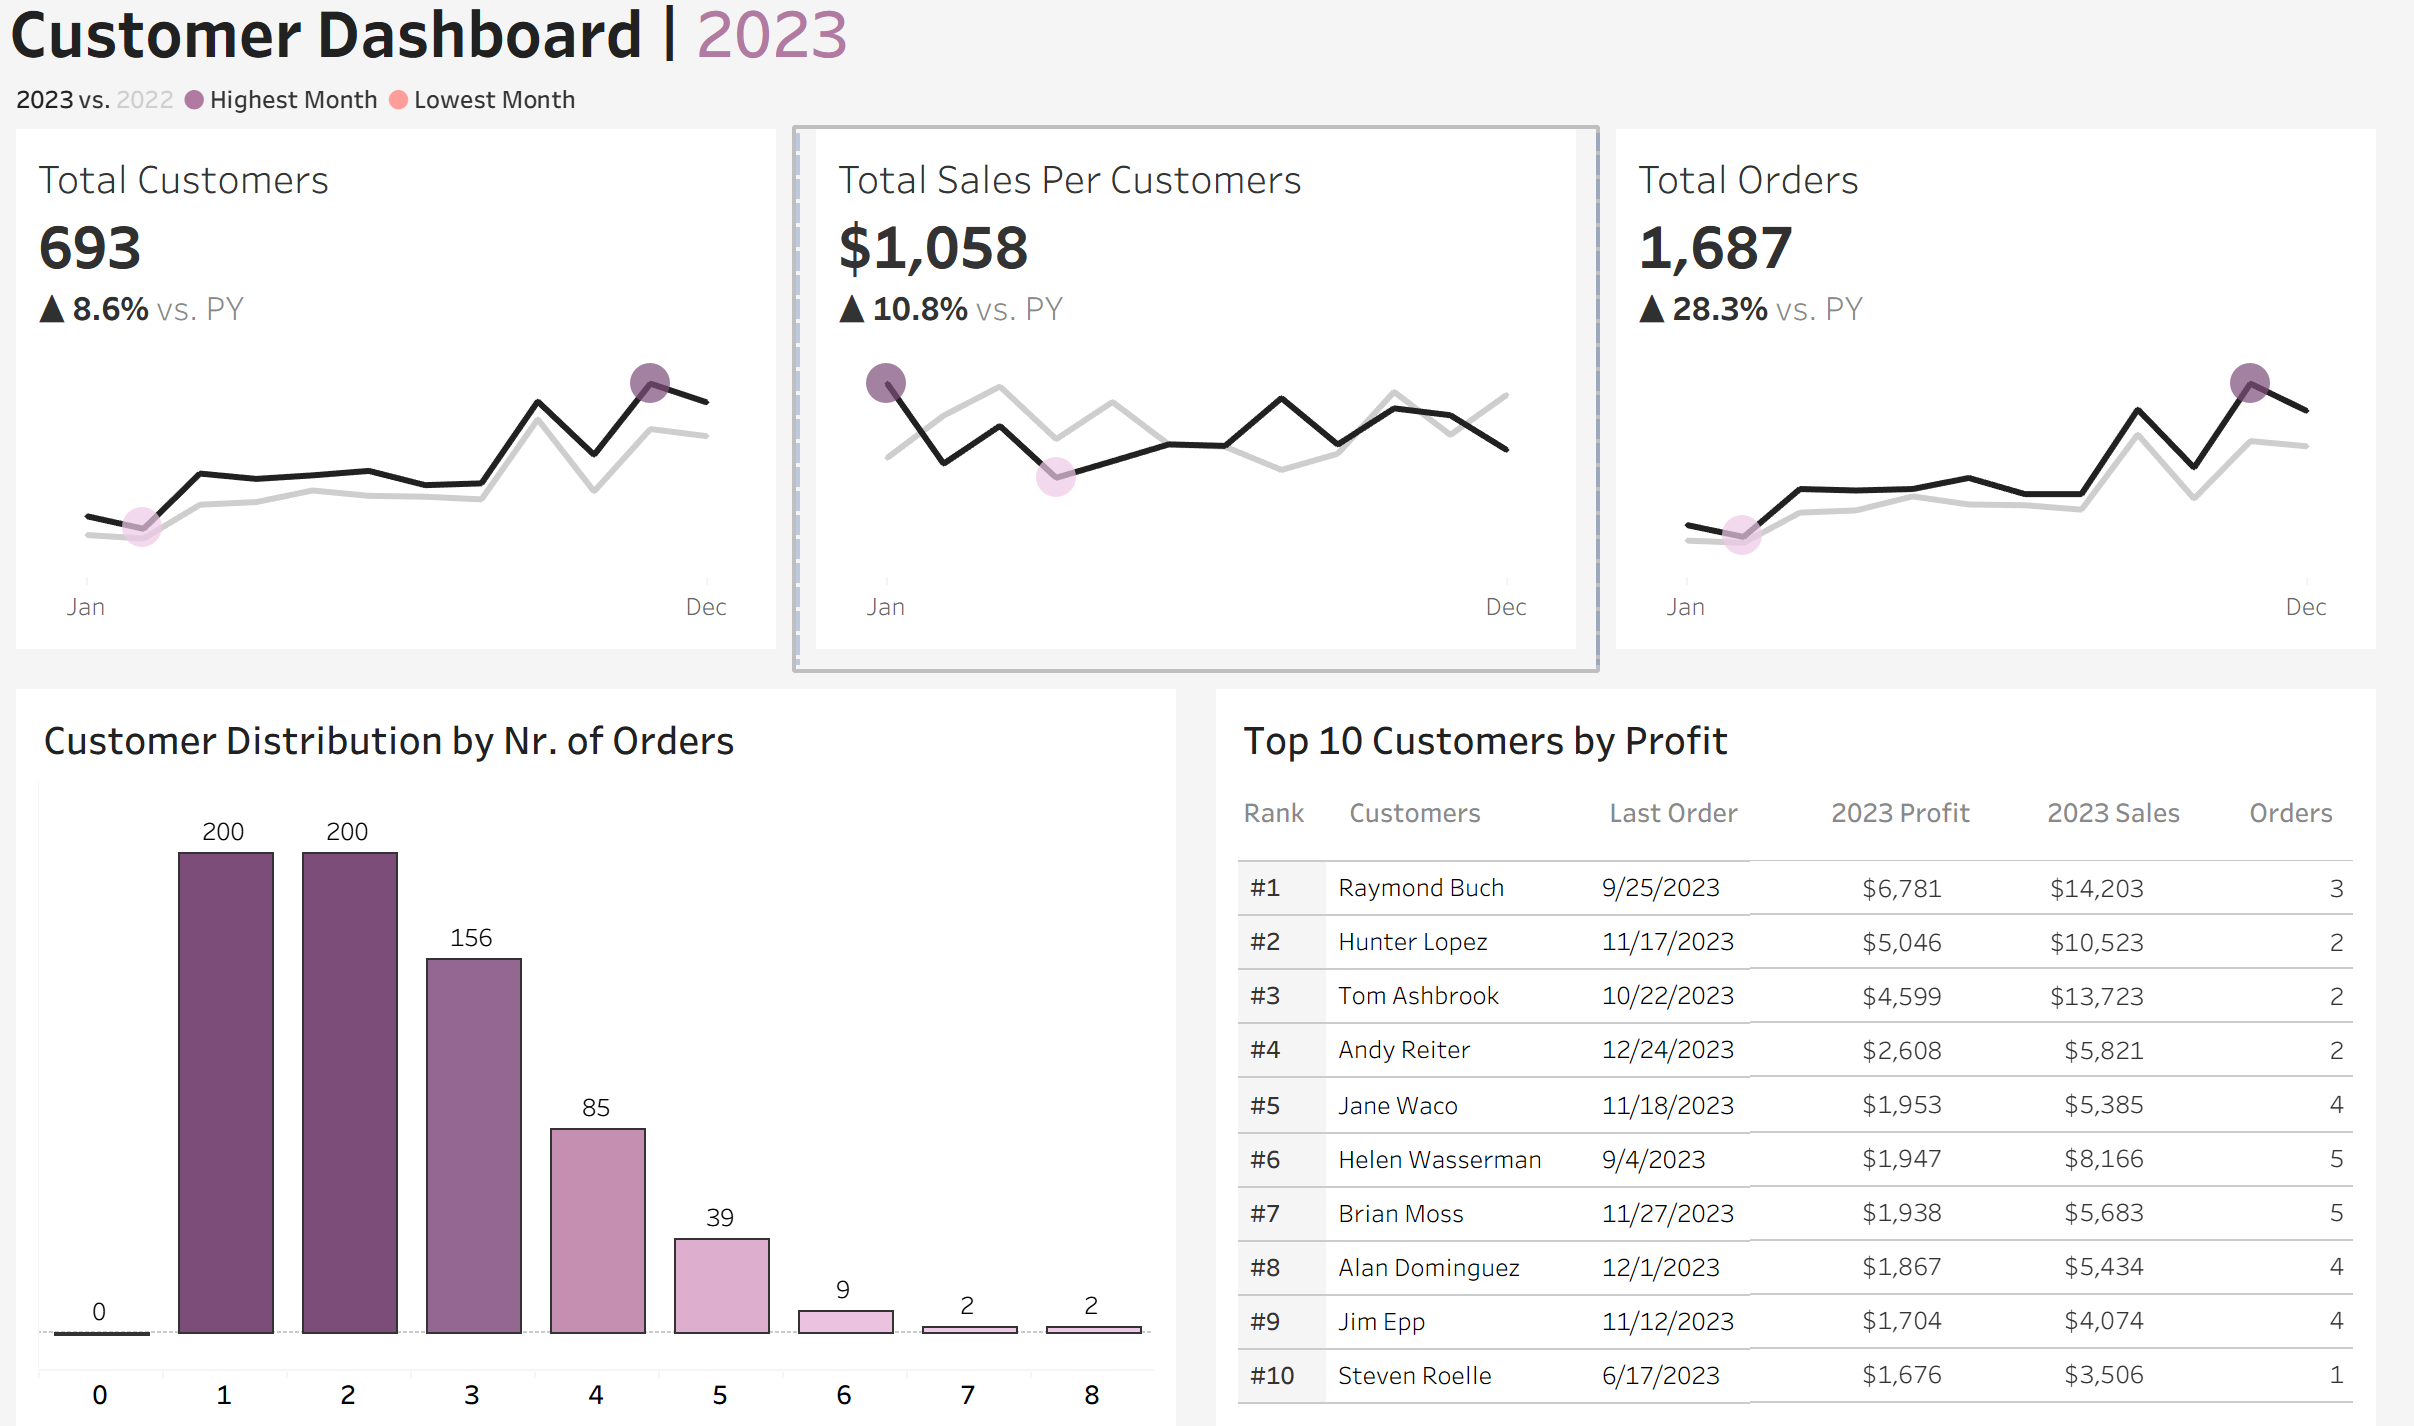

The dashboard page shown, as its layout file describes it:
{"tool":"tableau","page":{"name":"Customer Dashboard","canvas":[1200,800],"ordinal":0},"visuals":[{"type":"text","box":[0,0,1200,37]},{"type":"blank","box":[952,10,237,86]},{"type":"worksheet","title":"Legend KPI","mark":"Automatic","box":[0,37,1200,30]},{"type":"worksheet","title":"KPI Customers","mark":"Automatic","rows":["Min/Max Quantity (copy)_3221481164588691468"],"cols":["Order Date"],"box":[0,67,400,270]},{"type":"worksheet","title":"KPI Sales Per Customers","mark":"Automatic","rows":["Min/Max Quantity (copy)_3221481164537155591"],"cols":["Order Date"],"box":[400,67,400,270]},{"type":"worksheet","title":"KPI Orders","mark":"Automatic","rows":["Min/Max Sales (copy)_3221481164601258003"],"cols":["Order Date"],"box":[800,67,400,270]},{"type":"text","box":[952,96,237,37]},{"type":"parameter","param":"[Parameters].[Parameter 1]","box":[952,133,237,55]},{"type":"text","box":[952,188,237,32]},{"type":"filter","title":"KPI Customers","param":"[federated.1kpxa041aiai2y1cl4pui1t4eju9].[none:Category:nk]","box":[952,220,237,57]},{"type":"filter","title":"KPI Customers","param":"[federated.1kpxa041aiai2y1cl4pui1t4eju9].[none:Sub-Category:nk]","box":[952,277,237,57]},{"type":"blank","box":[952,334,237,60]},{"type":"text","box":[17,354,566,34]},{"type":"text","box":[617,354,566,34]},{"type":"worksheet","title":"Customer Distribution","mark":"Bar","rows":["CY Sales (copy)_3221481164532666369"],"cols":["Calculation_998110323739992064"],"box":[17,388,566,325]},{"type":"text","box":[617,388,53,40]},{"type":"text","box":[670,388,130,40]},{"type":"text","box":[800,388,111,40]},{"type":"text","box":[911,388,108,40]},{"type":"text","box":[1019,388,101,40]},{"type":"text","box":[1120,388,63,40]},{"type":"text","box":[952,394,237,32]},{"type":"filter","title":"KPI Customers","param":"[federated.1kpxa041aiai2y1cl4pui1t4eju9].[none:Region:nk]","box":[952,426,237,57]},{"type":"worksheet","title":"Top Customers","mark":"Automatic","rows":["Calculation_782500491678904334","Customer Name","Order Date"],"box":[617,428,566,280]},{"type":"filter","title":"KPI Customers","param":"[federated.1kpxa041aiai2y1cl4pui1t4eju9].[none:State:nk]","box":[952,483,237,57]},{"type":"filter","title":"KPI Customers","param":"[federated.1kpxa041aiai2y1cl4pui1t4eju9].[none:City:nk]","box":[952,540,237,57]}]}

Visuals, with their boxes on the page's 1200x800 design canvas (x1, y1, x2, y2). These are canvas units, not pixel positions in the 2414x1426 screenshot, which may show the page scaled, cropped or inside an application window:
text: 0,0,1200,37
blank: 952,10,1189,96
"Legend KPI" worksheet: 0,37,1200,67
"KPI Customers" worksheet: 0,67,400,337
"KPI Sales Per Customers" worksheet: 400,67,800,337
"KPI Orders" worksheet: 800,67,1200,337
text: 952,96,1189,133
parameter: 952,133,1189,188
text: 952,188,1189,220
"KPI Customers" filter: 952,220,1189,277
"KPI Customers" filter: 952,277,1189,334
blank: 952,334,1189,394
text: 17,354,583,388
text: 617,354,1183,388
"Customer Distribution" worksheet (Bar marks): 17,388,583,713
text: 617,388,670,428
text: 670,388,800,428
text: 800,388,911,428
text: 911,388,1019,428
text: 1019,388,1120,428
text: 1120,388,1183,428
text: 952,394,1189,426
"KPI Customers" filter: 952,426,1189,483
"Top Customers" worksheet: 617,428,1183,708
"KPI Customers" filter: 952,483,1189,540
"KPI Customers" filter: 952,540,1189,597
